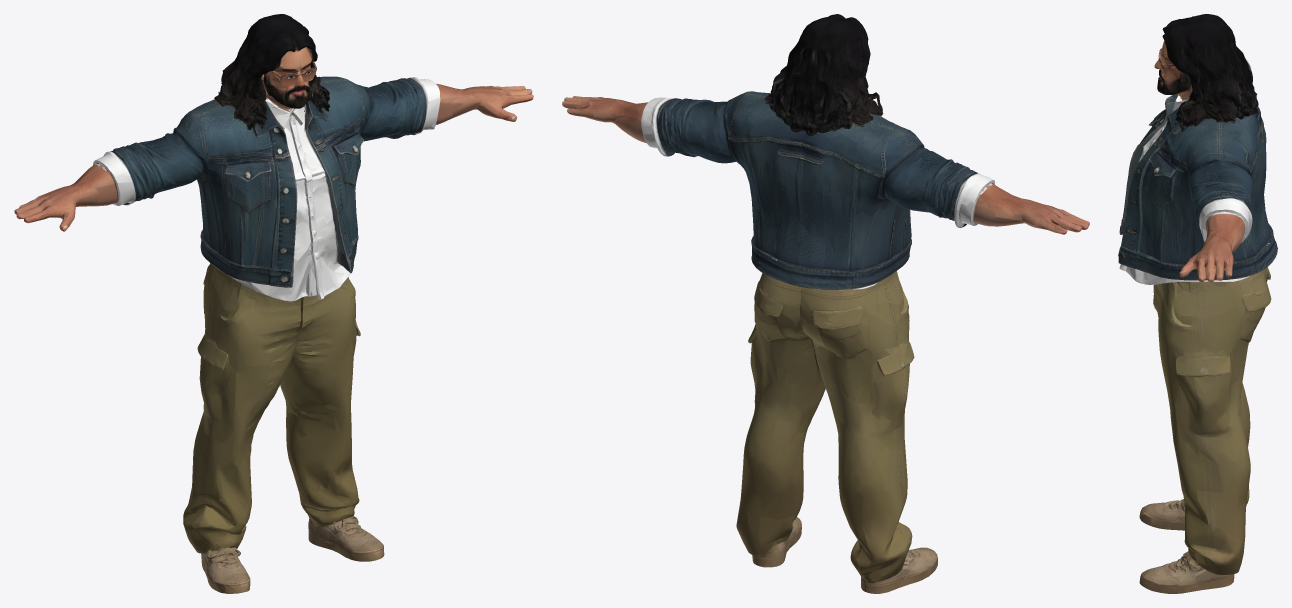
Rendered from hero.glb.
The picture shows the model from 3 angles, left to right: view 1: azimuth 30°, elevation 25°; view 2: azimuth 150°, elevation 25°; view 3: azimuth 270°, elevation 25°; orthographic projection. The views are drawn at different scales.
Visible parts, largest first — view 1: Mesh_0; view 2: Mesh_0; view 3: Mesh_0.
Boxes of the visible parts, x1=… form: Mesh_0: x1=14, y1=14, x2=533, y2=593; Mesh_0: x1=562, y1=14, x2=1089, y2=593; Mesh_0: x1=1118, y1=14, x2=1277, y2=593.
Bounding box in the file's own units: 1.89 × 1.9 × 0.5112.
Materials: 1 (1 with a texture image).
